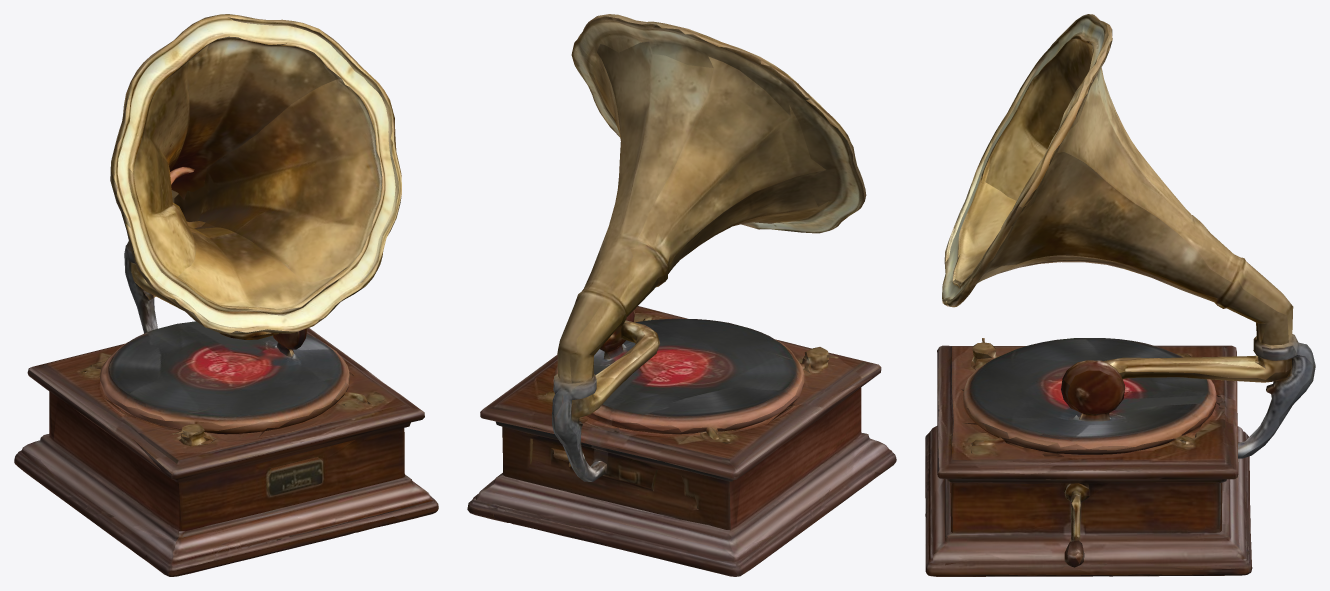
File: model_glb.glb
3 renders of one model, left to right at view 1: azimuth 30°, elevation 25°; view 2: azimuth 150°, elevation 25°; view 3: azimuth 270°, elevation 25°, orthographic. The views are drawn at different scales.
Visible parts, largest first — view 1: geometry_0; view 2: geometry_0; view 3: geometry_0.
Part boxes in pixels (x1,y1,x2,y2): geometry_0: (14, 14, 438, 576); geometry_0: (467, 14, 896, 576); geometry_0: (925, 14, 1315, 576).
Bounding box in the file's own units: 0.37 × 0.52 × 0.3858.
1 material, 1 textured.
